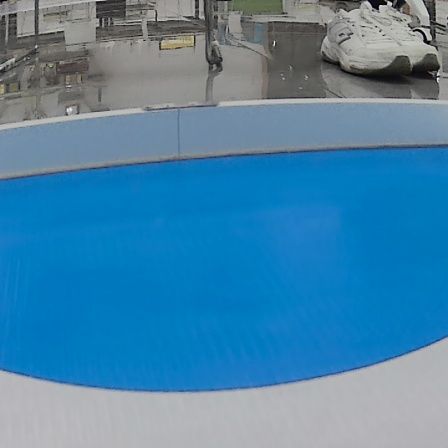blue_base: (0, 144, 448, 390)
